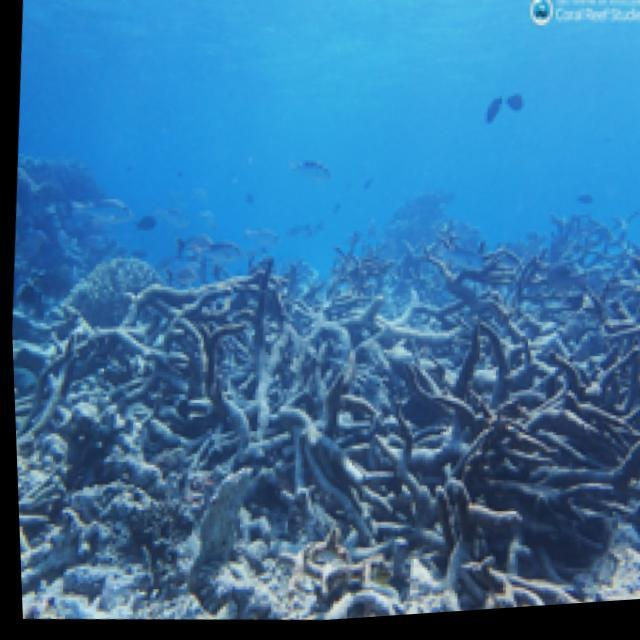Dead Coral: (7, 220, 313, 585), (370, 308, 640, 622)
